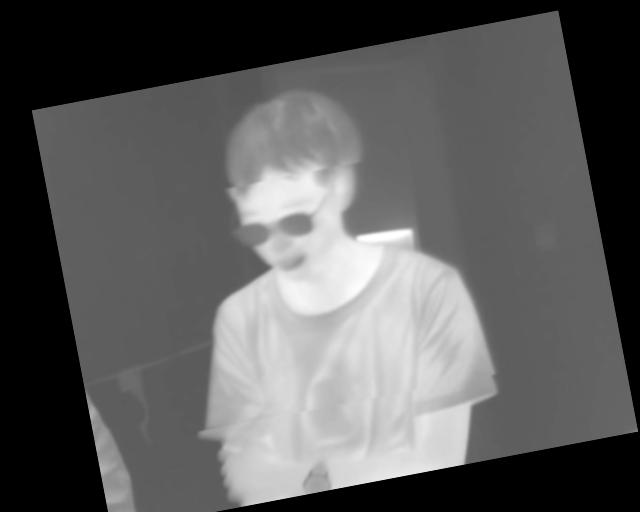face: (207, 78, 386, 293)
